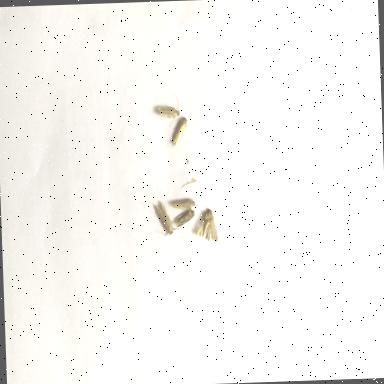pbw: (153, 200, 180, 238), (154, 94, 180, 129), (194, 207, 218, 244), (170, 116, 188, 150), (167, 196, 196, 212), (172, 208, 195, 228)
